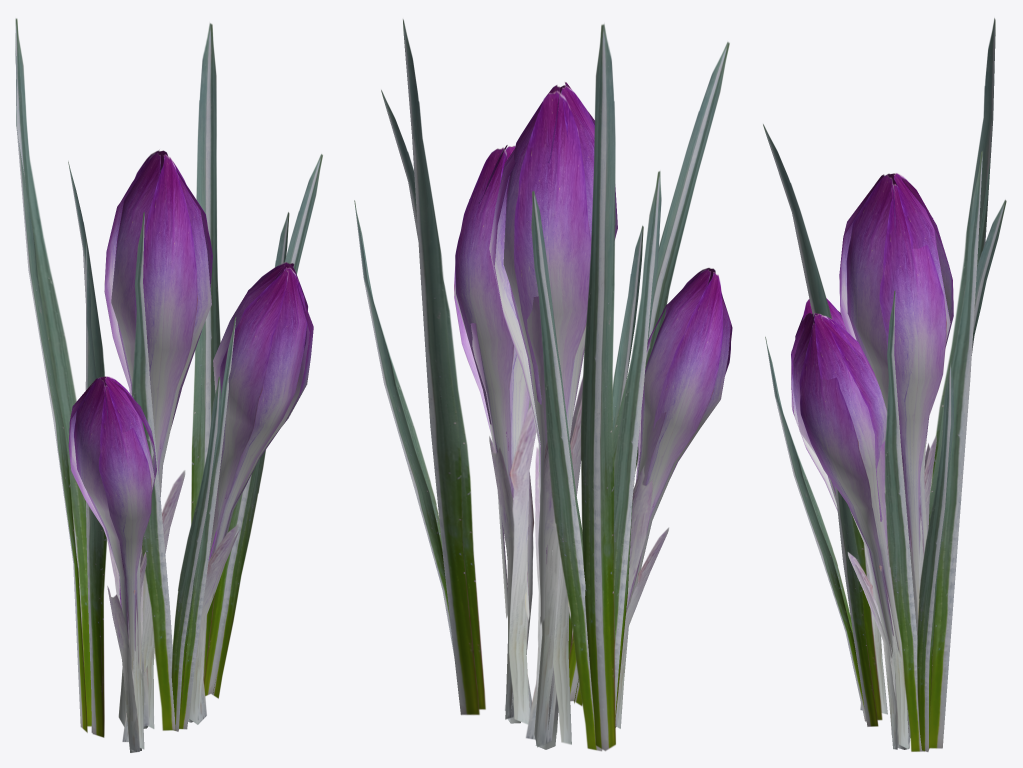
File: crocus_flower.glb
3 renders of one model, left to right at view 1: azimuth 30°, elevation 25°; view 2: azimuth 150°, elevation 25°; view 3: azimuth 270°, elevation 25°, orthographic. The views are drawn at different scales.
Parts seen in each view (by area): view 1: bq_Flower_Crocus-vernus_B_spring-summer; view 2: bq_Flower_Crocus-vernus_B_spring-summer; view 3: bq_Flower_Crocus-vernus_B_spring-summer.
Part boxes in pixels (box(x1,y1,x2,y2)): bq_Flower_Crocus-vernus_B_spring-summer: box(15, 18, 322, 752); bq_Flower_Crocus-vernus_B_spring-summer: box(354, 19, 732, 751); bq_Flower_Crocus-vernus_B_spring-summer: box(763, 18, 1006, 751).
Bounding box in the file's own units: 0.0552 × 0.1317 × 0.0434.
Materials: 2 (2 with a texture image).
